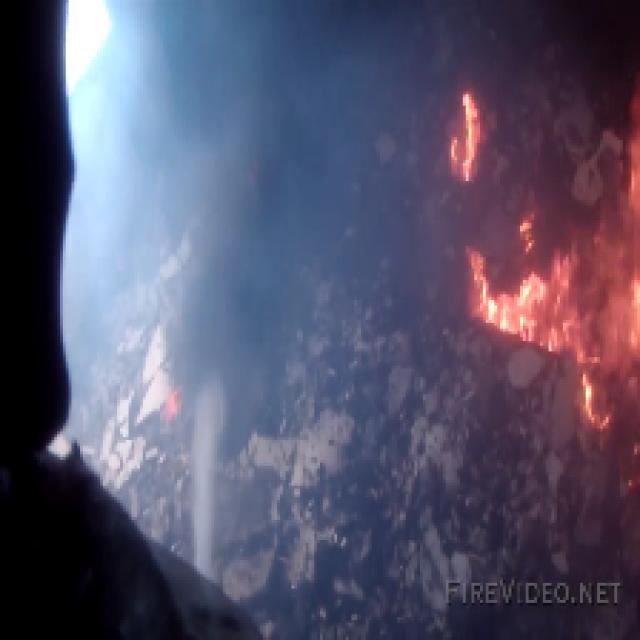Fire: (488, 240, 586, 340), (458, 95, 486, 172)
Smoke: (168, 8, 320, 286)
